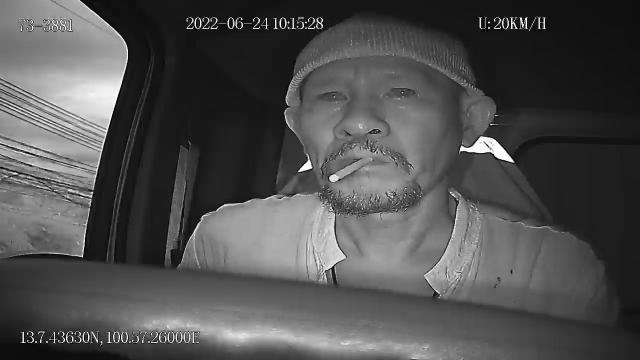SafeDriving: (374, 73, 426, 107), (308, 78, 354, 112)
Smoking: (328, 155, 376, 185)
